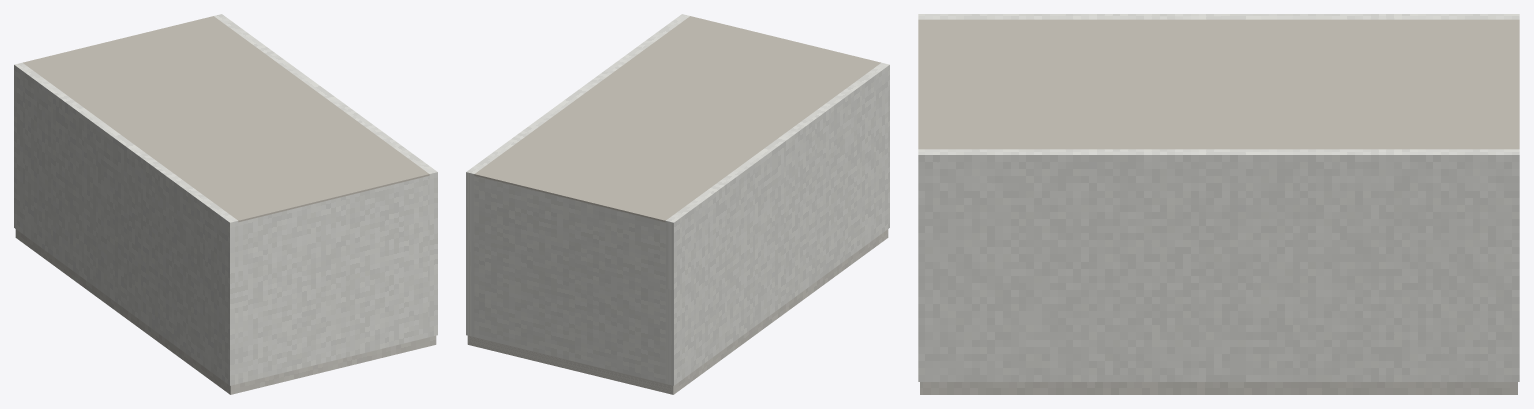
The model's file is wall_400.obj.
The picture shows the model from 3 angles, left to right: view 1: azimuth 30°, elevation 25°; view 2: azimuth 150°, elevation 25°; view 3: azimuth 270°, elevation 25°; orthographic projection. The views are drawn at different scales.
Parts seen in each view (by area): view 1: zadnyaya_stenka, bokovina_levaya, krysha, fasad_1, bokovina_pravaya; view 2: zadnyaya_stenka, bokovina_levaya, dno, fasad_1, bokovina_pravaya; view 3: bokovina_pravaya, zadnyaya_stenka, fasad_1, bokovina_levaya.
Boxes of the visible parts, x1,y1,x2,y2 form: zadnyaya_stenka: (23, 16, 429, 222); bokovina_levaya: (14, 62, 238, 385); krysha: (238, 176, 429, 383); fasad_1: (15, 229, 436, 394); bokovina_pravaya: (214, 14, 437, 336); zadnyaya_stenka: (474, 16, 880, 222); bokovina_levaya: (665, 62, 889, 385); dno: (474, 176, 665, 383); fasad_1: (467, 229, 888, 394); bokovina_pravaya: (466, 14, 689, 336); bokovina_pravaya: (918, 149, 1519, 381); zadnyaya_stenka: (918, 19, 1519, 149); fasad_1: (920, 382, 1517, 394); bokovina_levaya: (918, 14, 1519, 19).
Size of the model in its own units: 400 by 318 by 720.
